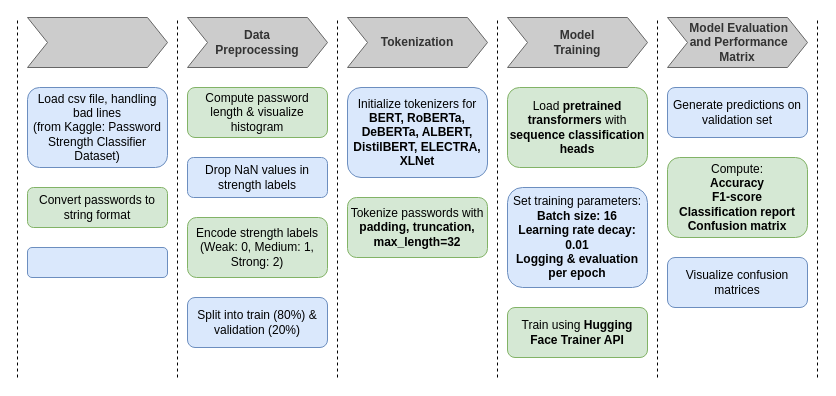
Image size: 836x396. Some labels were removed from this diagram. The centre of each missing label's shape, as x and y in pixels:
"Data Loading" goes at (x=97, y=42).
"Handle missing values" goes at (x=97, y=262).
